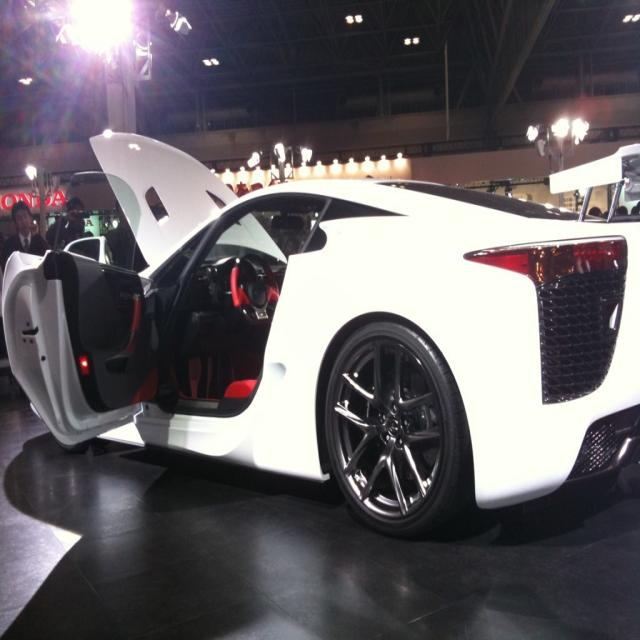Car: (1, 132, 640, 538)
